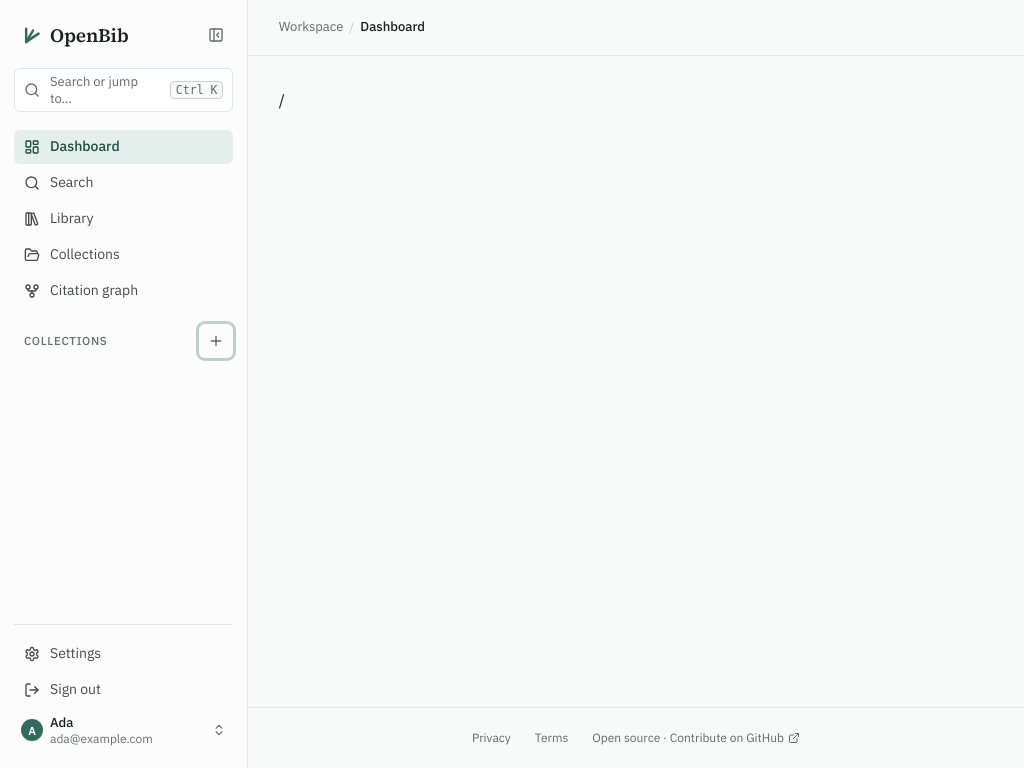
Sidebar › creates a collection from + and opens it
Click the button named "New collection" at (216, 341), box [199, 324, 233, 358]
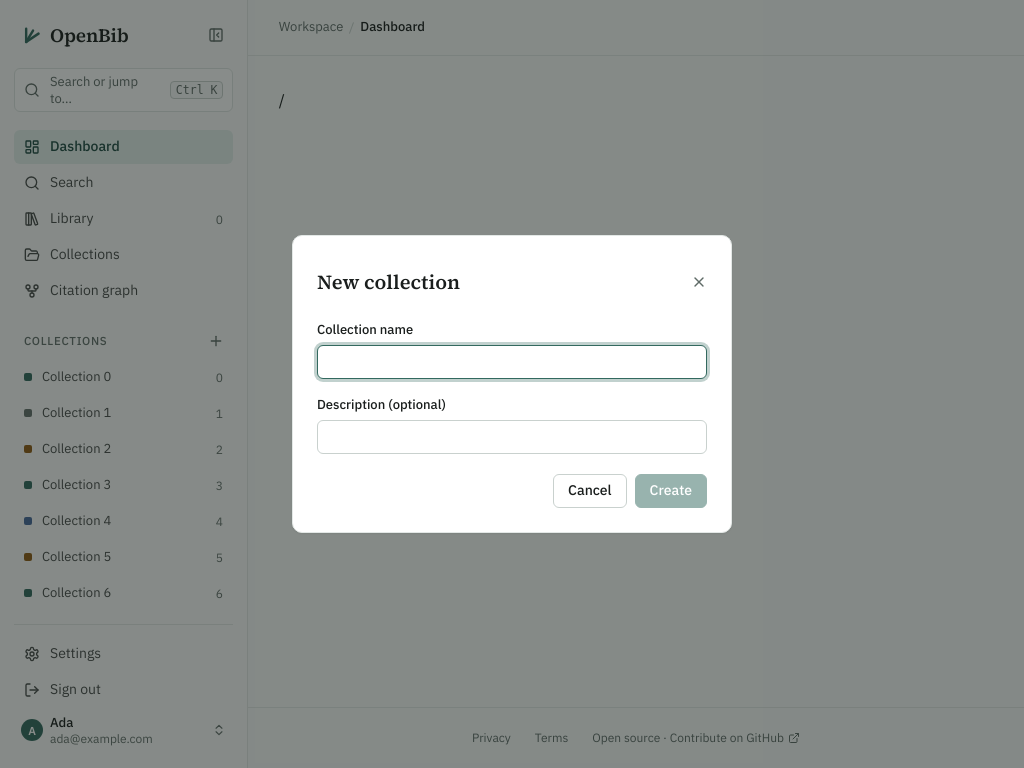
Type " Reading group " into the field labelled "Collection name" at (512, 362), box [317, 345, 707, 379]
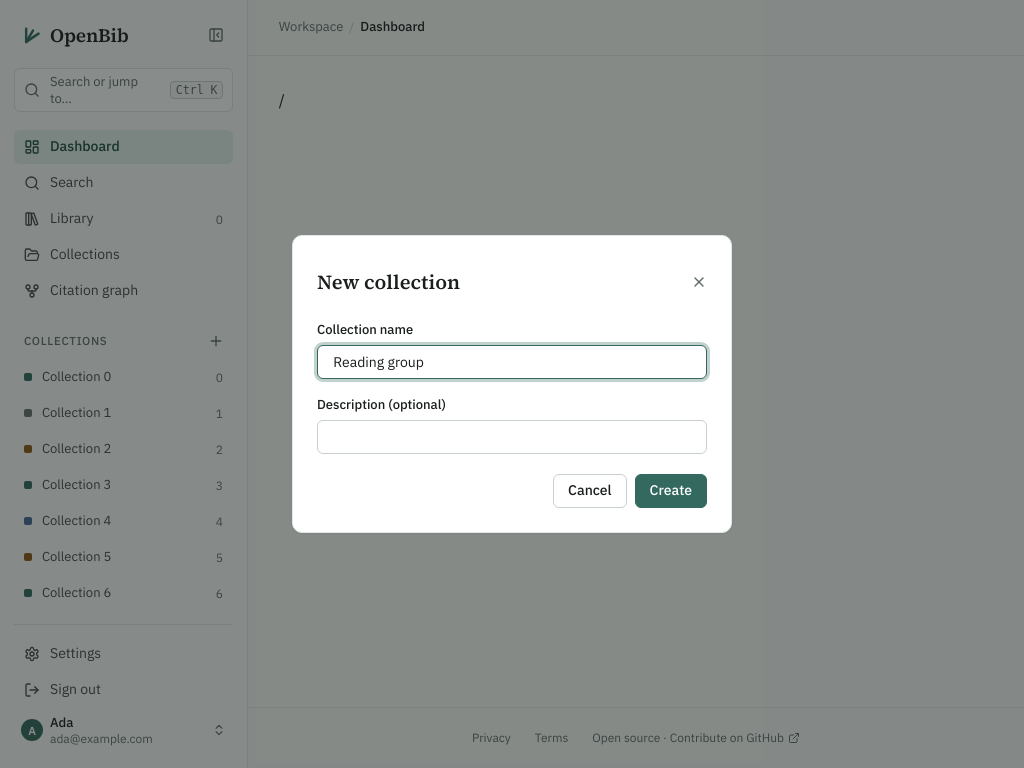
Click the button "Create" at (671, 491), box [635, 474, 707, 508]
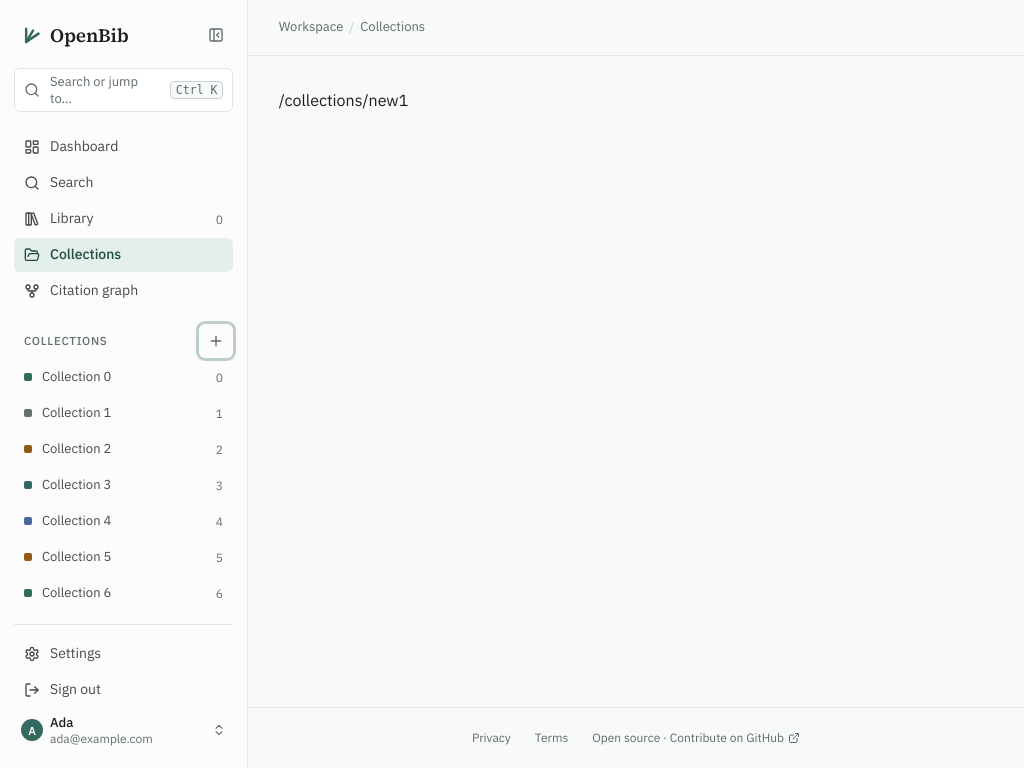
Expected: the text with test id "where" reads "/collections/new1", [279, 90, 408, 110]
Expected: the dialog is gone
